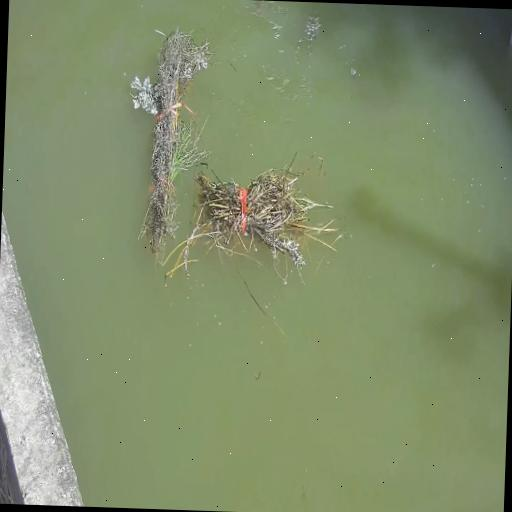twig: (124, 38, 214, 251), (182, 156, 308, 288)
